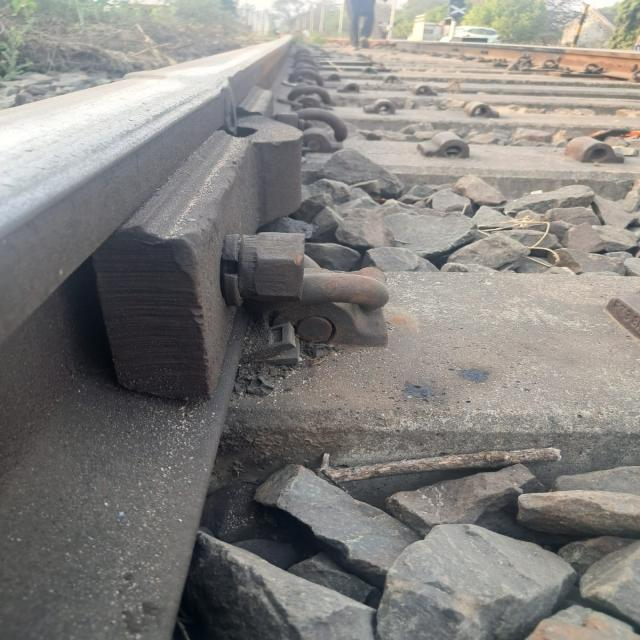correct: (214, 213, 511, 384)
